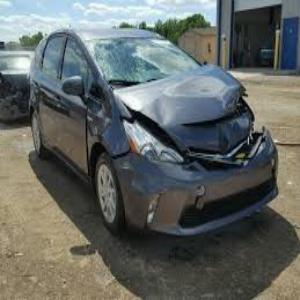bonnet: (152, 63, 262, 152)
